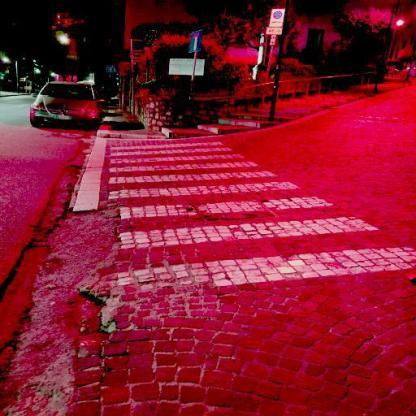crosswalk: (106, 178, 338, 221), (108, 146, 250, 166)
